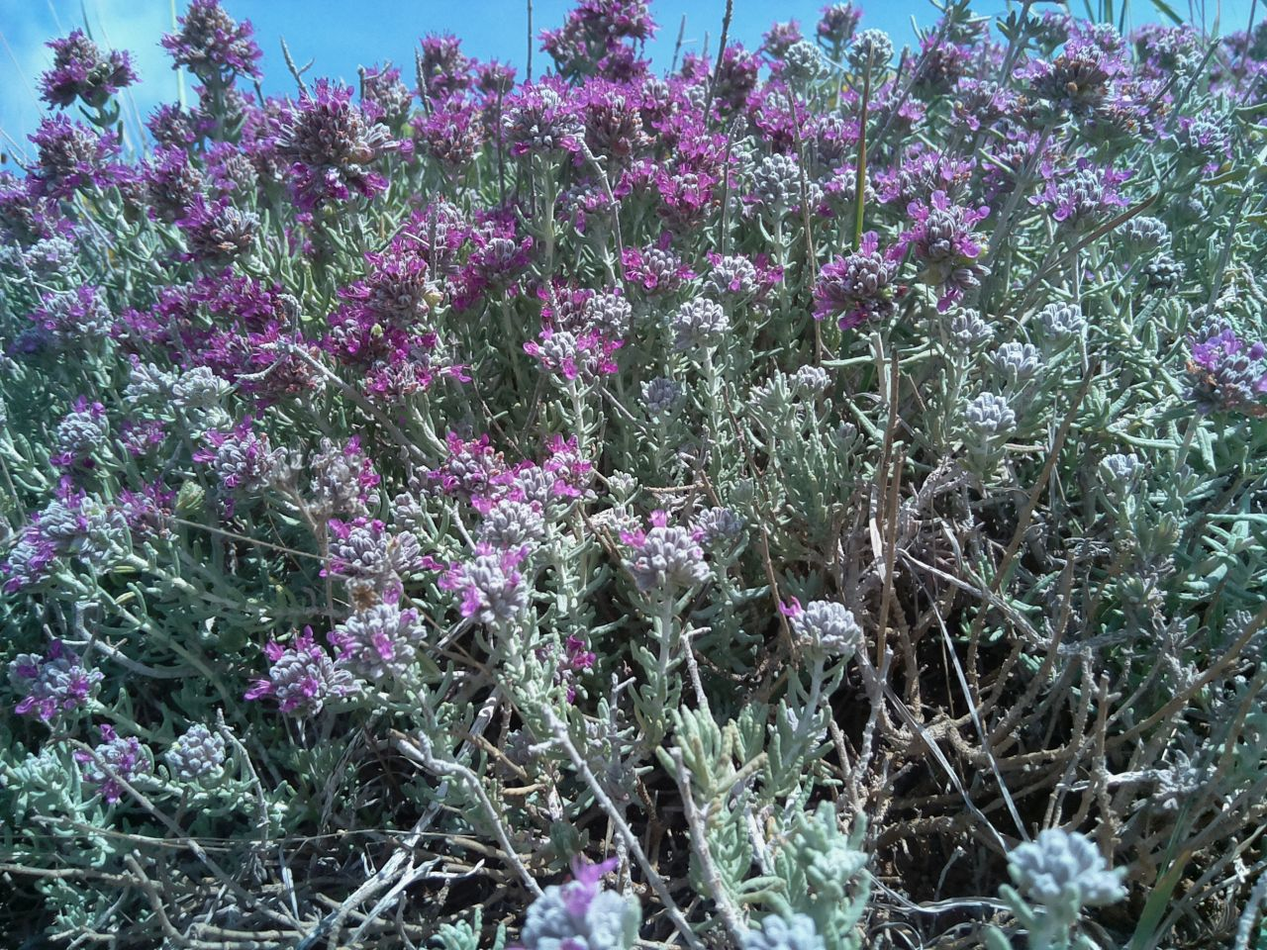Unidentified insect: (79, 57, 120, 100)
